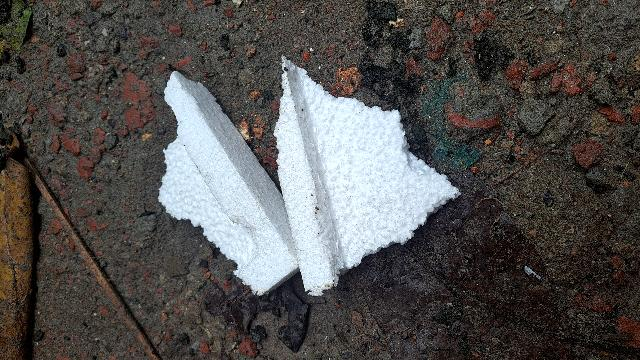cocksheet: (118, 28, 475, 315)
